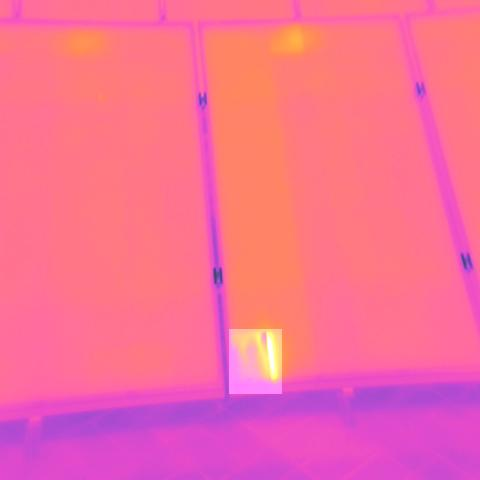fault: (229, 329, 282, 394)
